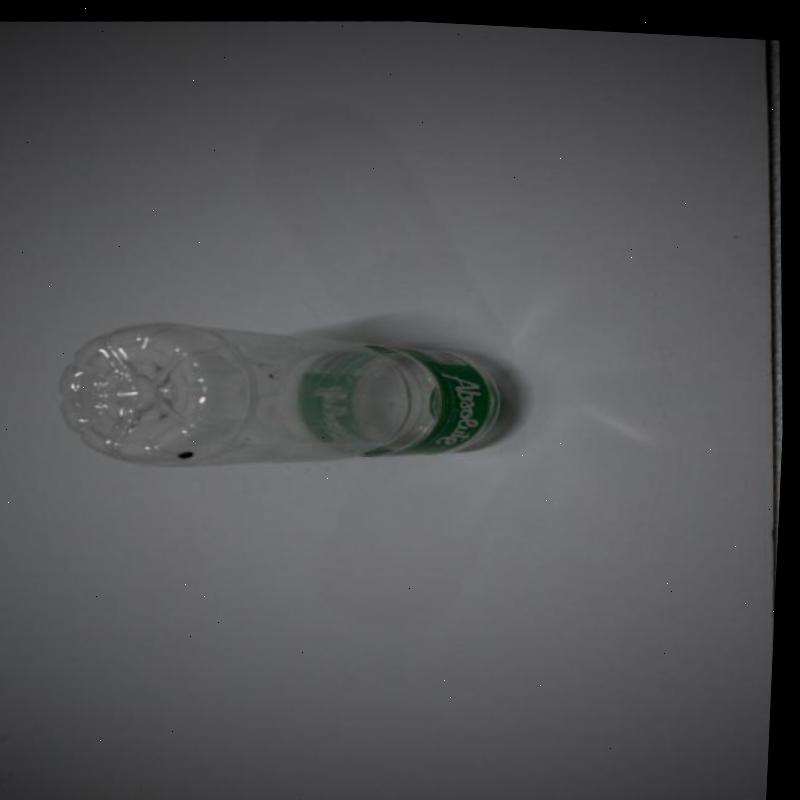botella: (55, 299, 513, 482)
